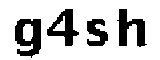4: (46, 6, 80, 52)
g: (9, 13, 44, 60)
h: (117, 3, 149, 53)
s: (81, 17, 111, 49)
